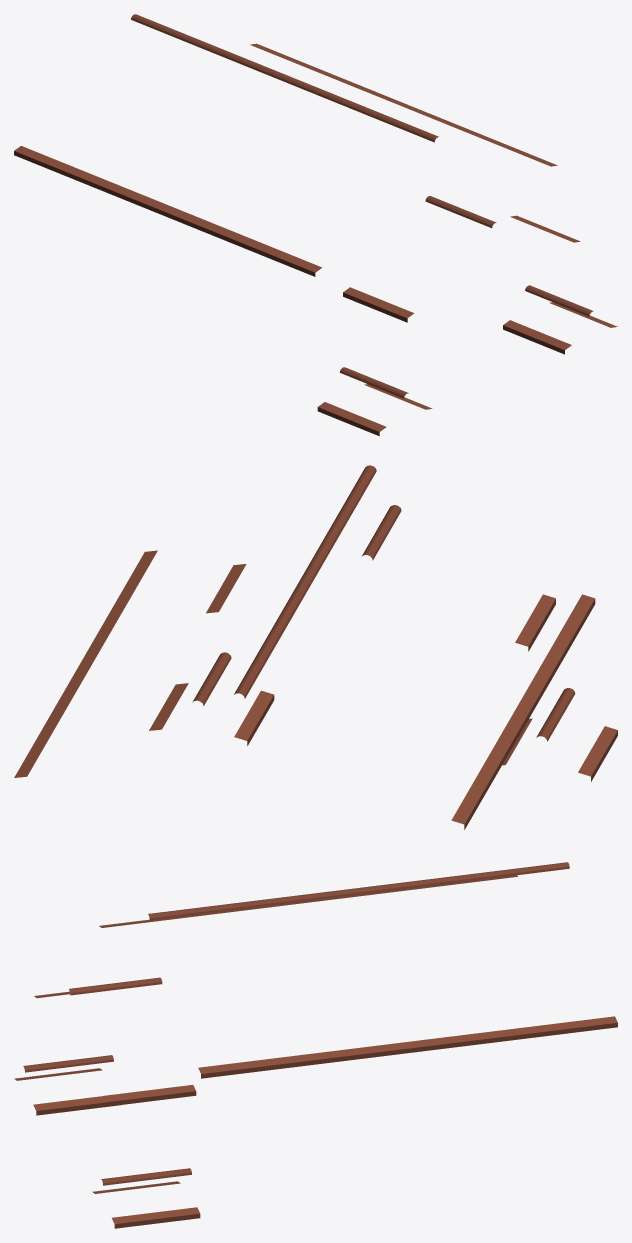
3 views of the same model, one above another, from view 1: azimuth 30°, elevation 25°; view 2: azimuth 150°, elevation 25°; view 3: azimuth 270°, elevation 25° (orthographic). The views are drawn at different scales.
Visible parts, largest first — view 1: detail; view 2: detail; view 3: detail.
Part boxes in pixels (<box>): detail: <box>14,14,617,436</box>; detail: <box>14,465,617,829</box>; detail: <box>14,862,617,1228</box>.
Bounding box in the file's own units: 14.81 × 7.76 × 18.09.
